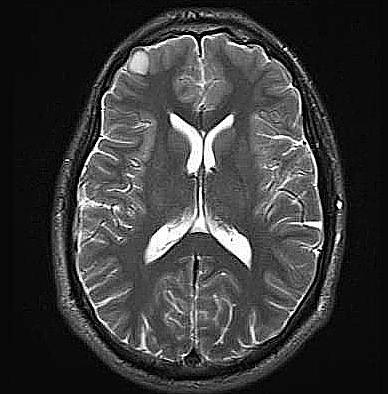Normal_Brain: (1, 1, 388, 394)
